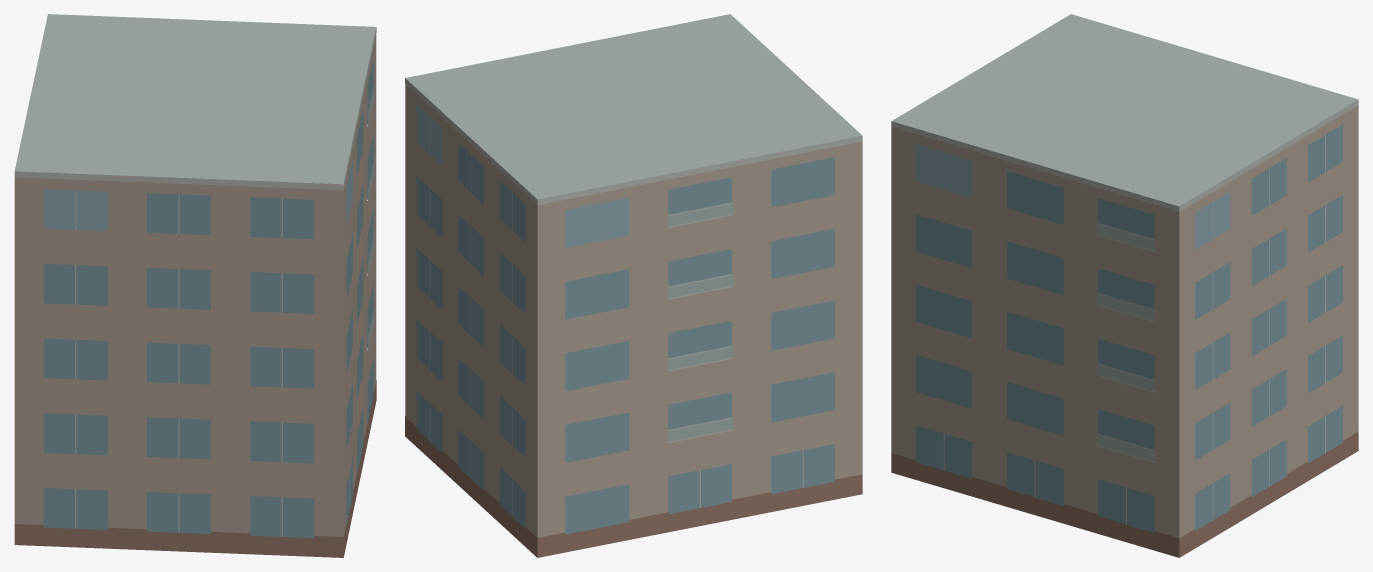
Rendered from survey-upis-32771657.glb.
The picture shows the model from 3 angles, left to right: view 1: azimuth 30°, elevation 25°; view 2: azimuth 150°, elevation 25°; view 3: azimuth 270°, elevation 25°; orthographic projection. The views are drawn at different scales.
Visible parts, largest first — view 1: survey-upis-32771657.tmp; view 2: survey-upis-32771657.tmp; view 3: survey-upis-32771657.tmp.
Boxes of the visible parts, x1,y1,x2,y2 form: survey-upis-32771657.tmp: (14, 14, 376, 557); survey-upis-32771657.tmp: (405, 14, 862, 557); survey-upis-32771657.tmp: (891, 14, 1358, 557).
Bounding box in the file's own units: 17.92 × 15.25 × 18.39.
